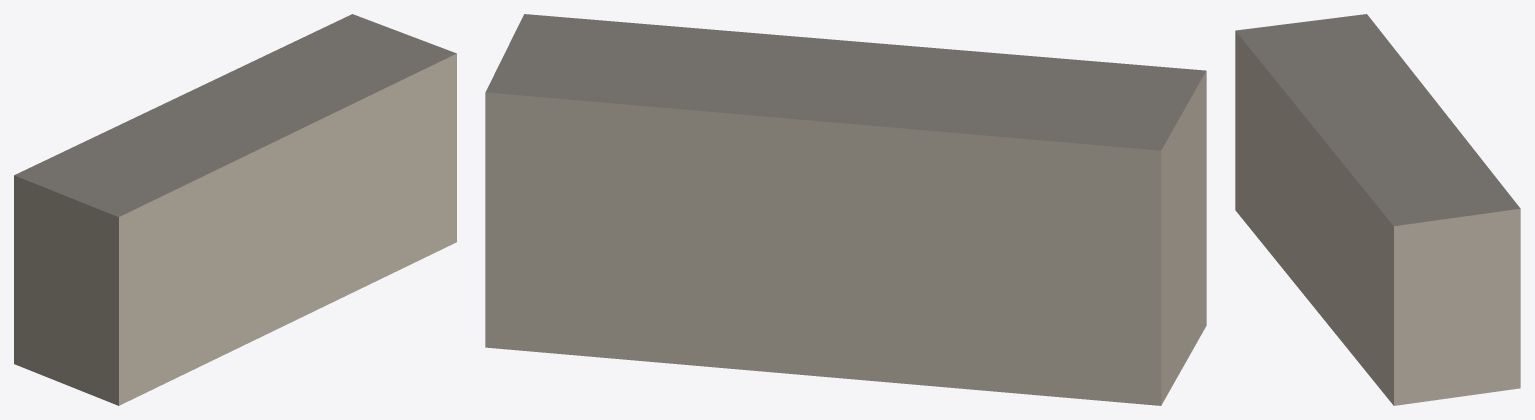
3 views of the same model, side by side, from view 1: azimuth 30°, elevation 25°; view 2: azimuth 150°, elevation 25°; view 3: azimuth 270°, elevation 25° (orthographic). The views are drawn at different scales.
Parts seen in each view (by area): view 1: HP-w505643406; view 2: HP-w505643406; view 3: HP-w505643406.
Part boxes in pixels (<box>): HP-w505643406: <box>14,14,456,405</box>; HP-w505643406: <box>485,14,1206,405</box>; HP-w505643406: <box>1235,14,1520,405</box>.
Size of the model in its own units: 45.6 by 18 by 25.9.
